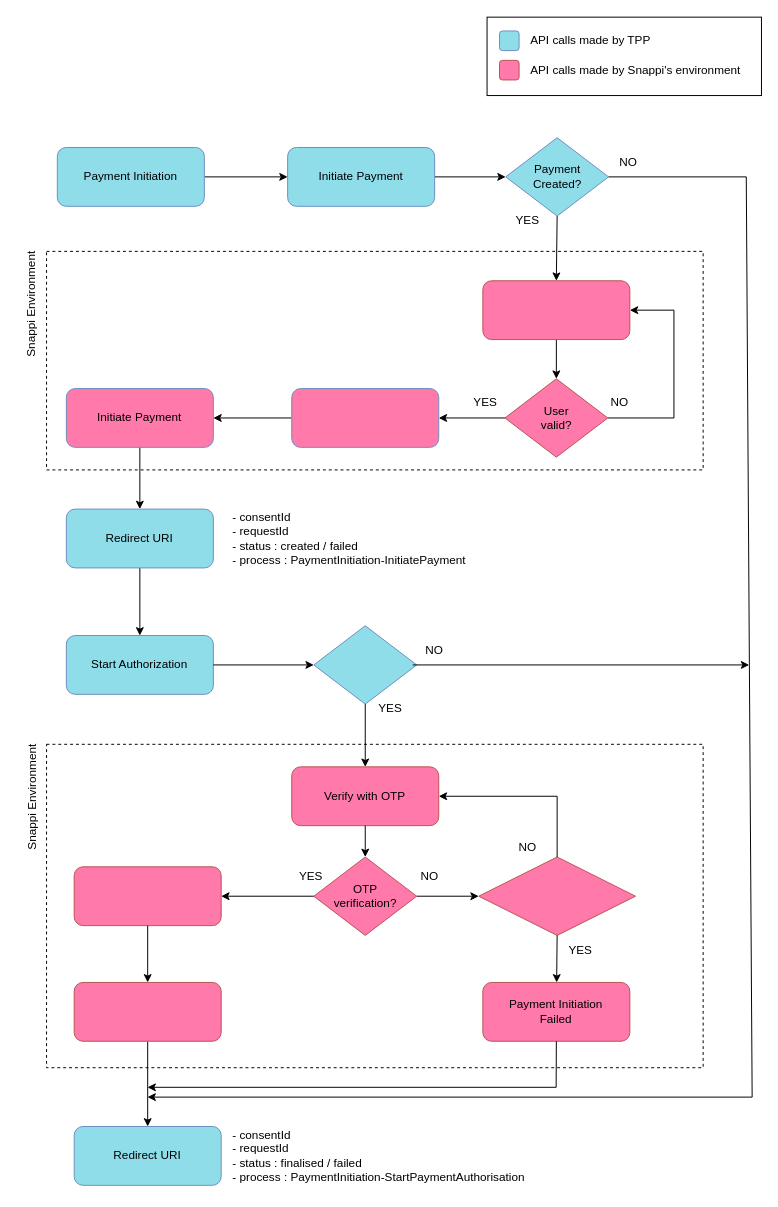
Image size: 778x1207. Some labels were removed from this diagram. The box of each missing label's shape, as (x1, y1, x2, y2) in pixels:
Authenticate user: (482, 280, 630, 340)
Authorization success?: (313, 625, 417, 704)
Choose account: (291, 388, 439, 447)
Execute Transaction: (73, 866, 221, 926)
Max number of tries reached?: (478, 856, 636, 935)
Payment Initiation Succeeded: (73, 981, 221, 1041)
